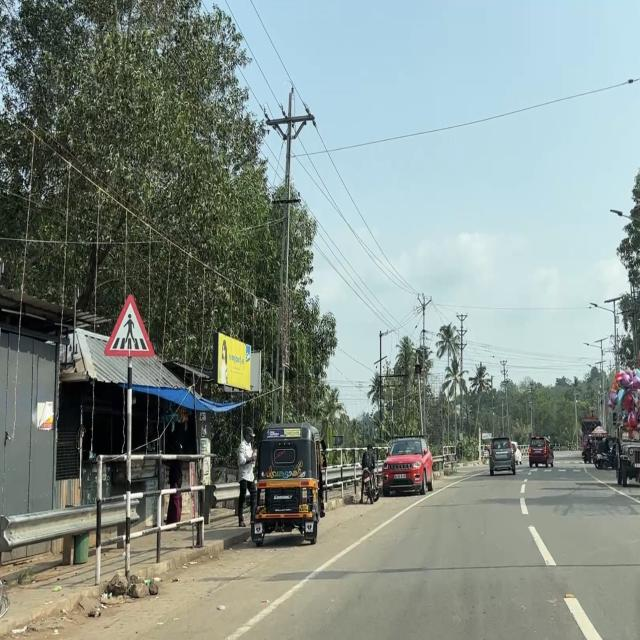PEDESTRIAN_CROSSING: (103, 290, 157, 360)
